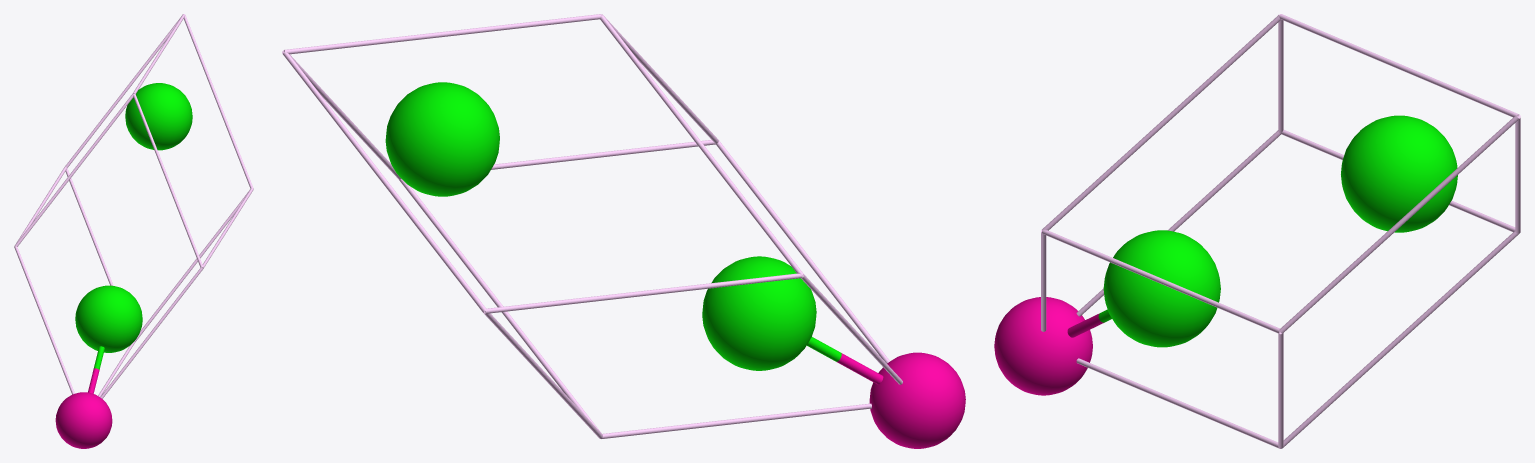
Rendered from CaF2_primitive.glb.
3 views of the same model, side by side, from view 1: azimuth 30°, elevation 25°; view 2: azimuth 150°, elevation 25°; view 3: azimuth 270°, elevation 25° (orthographic). The views are drawn at different scales.
Parts seen in each view (by area): view 1: F02, F03, Ca01, 1-4, 2-4, 6-7, 5-7, 3-6, 0-2, 0-1, 3-5, 4-7 (+3 smaller); view 2: F03, F02, Ca01, 5-7, 1-5, 1-4, 4-7, 3-6, 0-3, 0-2, 2-6, 3-5 (+4 smaller); view 3: F03, F02, Ca01, 6-7, 2-4, 3-5, 4-7, 2-6, 0-3, 0-1, 1-5, 3-6 (+3 smaller).
Boxes of the visible parts, x1,y1,x2,y2 form: F02: [75, 285, 142, 352]; F03: [125, 83, 192, 150]; Ca01: [55, 392, 112, 448]; 1-4: [15, 93, 133, 246]; 2-4: [133, 93, 203, 267]; 6-7: [183, 15, 253, 188]; 5-7: [65, 16, 181, 167]; 3-6: [135, 190, 249, 341]; 0-2: [100, 267, 202, 398]; 0-1: [14, 246, 74, 394]; 3-5: [65, 168, 113, 285]; 4-7: [133, 14, 185, 93]; F03: [385, 82, 499, 196]; F02: [702, 256, 816, 370]; Ca01: [869, 352, 965, 448]; 5-7: [283, 52, 486, 312]; 1-5: [485, 273, 802, 313]; 1-4: [600, 15, 803, 274]; 4-7: [284, 14, 601, 54]; 3-6: [399, 179, 601, 433]; 0-3: [602, 403, 871, 438]; 0-2: [716, 140, 889, 363]; 2-6: [491, 140, 715, 169]; 3-5: [483, 311, 602, 438]; F03: [1341, 115, 1457, 232]; F02: [1103, 230, 1220, 347]; Ca01: [994, 297, 1092, 395]; 6-7: [1279, 116, 1519, 333]; 2-4: [1042, 14, 1280, 230]; 3-5: [1283, 231, 1518, 447]; 4-7: [1279, 14, 1519, 117]; 2-6: [1041, 230, 1280, 333]; 0-3: [1076, 358, 1279, 448]; 0-1: [1076, 130, 1280, 316]; 1-5: [1280, 130, 1515, 231]; 3-6: [1278, 332, 1283, 448].
Bounding box in the file's own units: 5.97 × 5.97 × 5.97.
